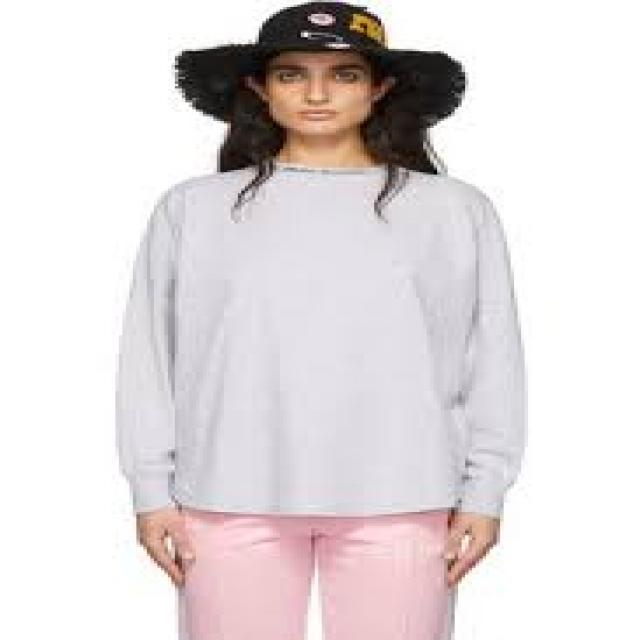plain: (105, 157, 536, 530)
